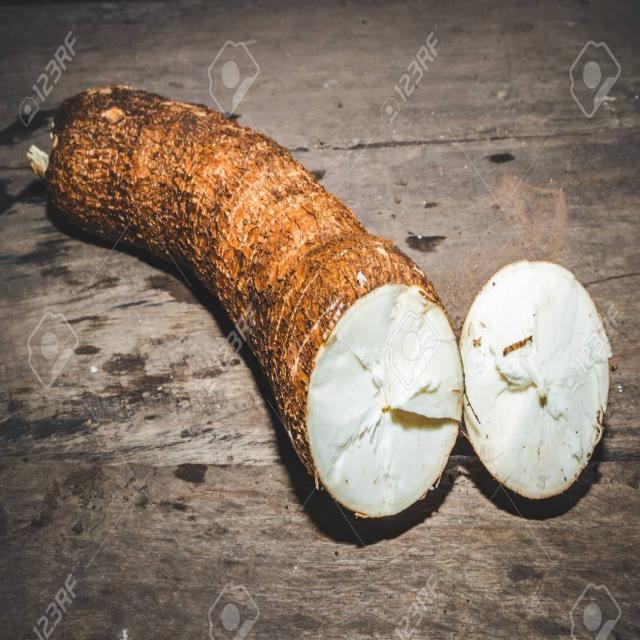yuca: (22, 58, 466, 534), (448, 249, 618, 532)
